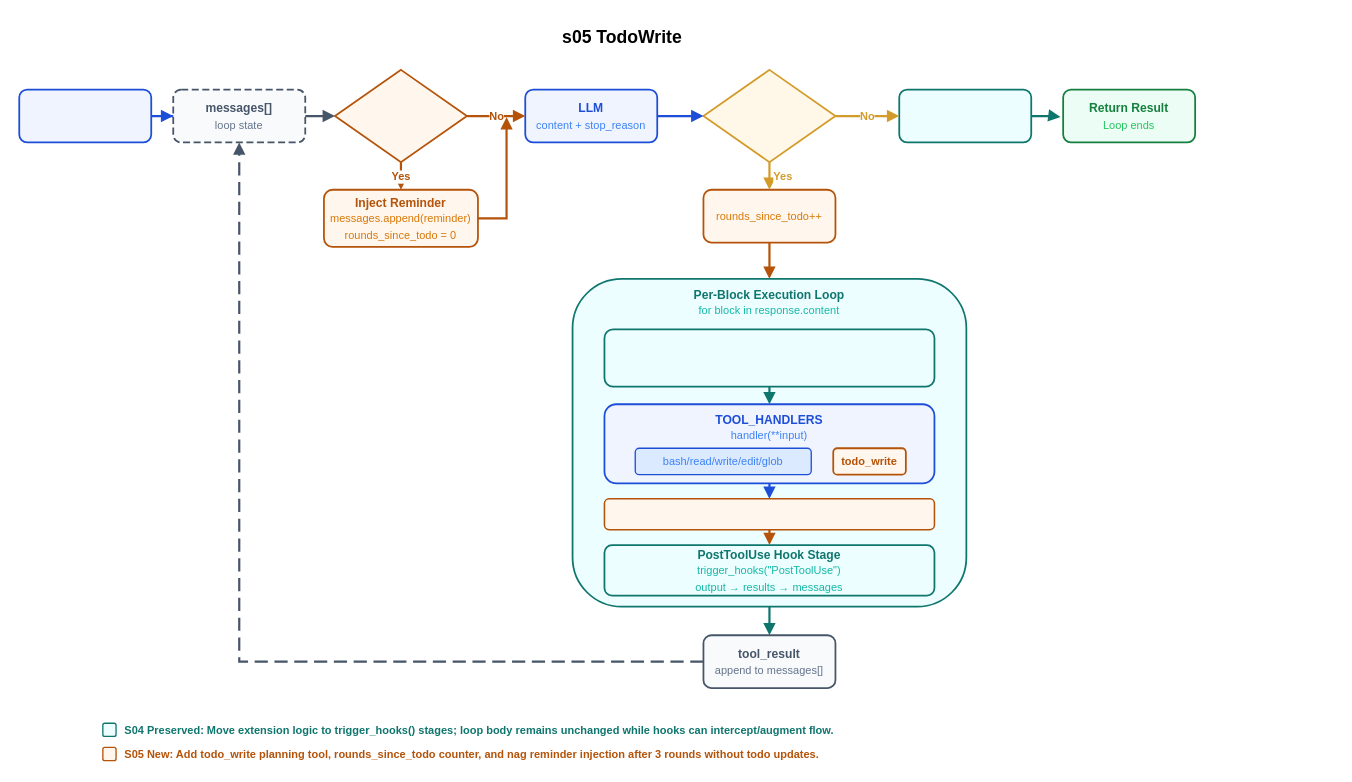
This 1352x782 diagram has some shape labels left out. Each missing label, with the centre of its shape:
if todo_write: rounds_since_todo = 0: point (769, 514)
PreToolUse Hook Stage trigger_hooks("PreToolUse") blocked → results.append: point (769, 357)
rounds_since_todo >= 3?: point (400, 115)
Stop Hook trigger_hooks("Stop"): point (965, 115)
stop_reason == "tool_use"?: point (769, 115)
User Query Rename all .py files to snake_case, run tests...: point (85, 115)
